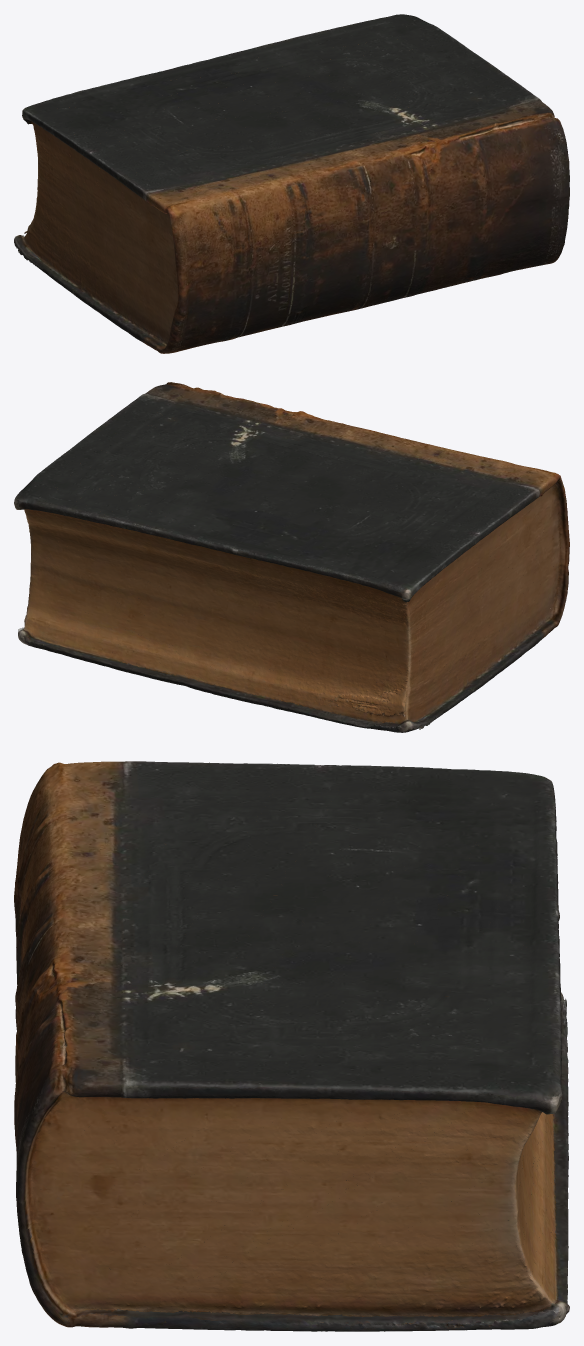
The model's file is dictionary (1).glb.
3 renders of one model, top to bottom at view 1: azimuth 30°, elevation 25°; view 2: azimuth 150°, elevation 25°; view 3: azimuth 270°, elevation 25°, orthographic. The views are drawn at different scales.
Visible parts, largest first — view 1: Dictionary; view 2: Dictionary; view 3: Dictionary.
Part boxes in pixels (bbox=[...]): Dictionary: bbox=[14, 14, 569, 353]; Dictionary: bbox=[14, 382, 569, 732]; Dictionary: bbox=[14, 761, 569, 1331].
Size of the model in its own units: 1.94 by 0.7265 by 1.4.
Materials: 1 (1 with a texture image).
